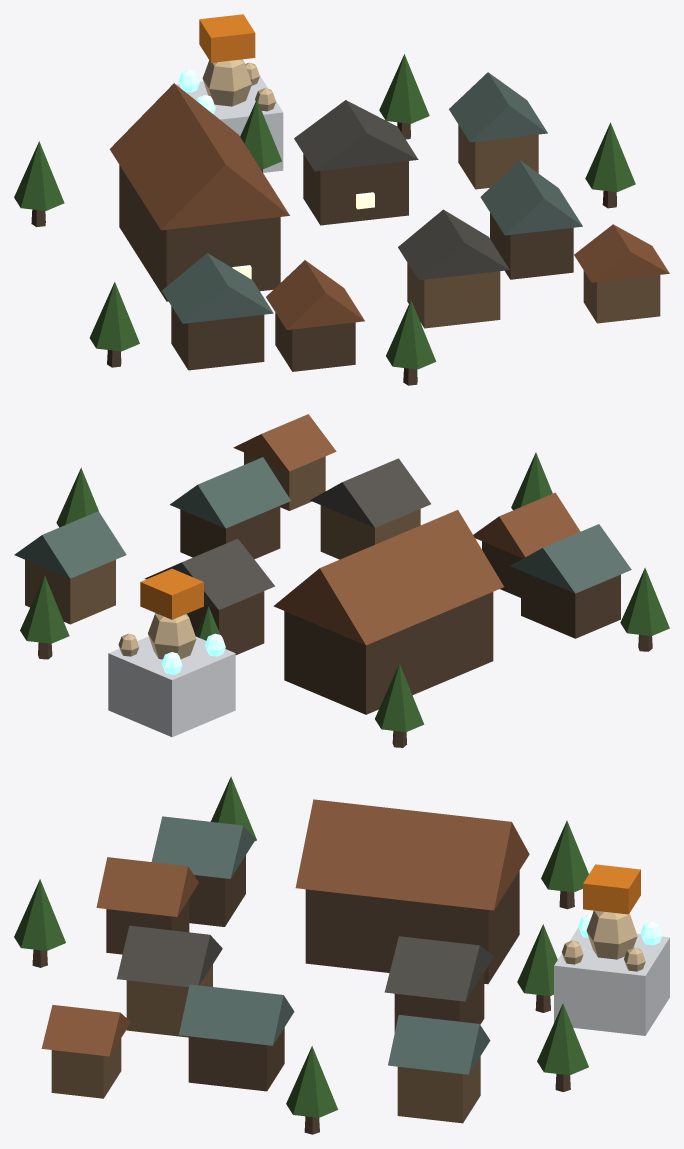
Rendered from overworld-settlement-slavic-rural.glb.
3 renders of one model, top to bottom at view 1: azimuth 30°, elevation 25°; view 2: azimuth 150°, elevation 25°; view 3: azimuth 270°, elevation 25°, orthographic. The views are drawn at different scales.
Parts seen in each view (by area): view 1: settlement; view 2: settlement; view 3: settlement.
Boxes of the visible parts, bbox=[...] form: settlement: bbox=[14, 14, 669, 385]; settlement: bbox=[14, 414, 669, 747]; settlement: bbox=[14, 776, 669, 1134].
Bounding box in the file's own units: 0.5102 × 0.113 × 0.4853.
